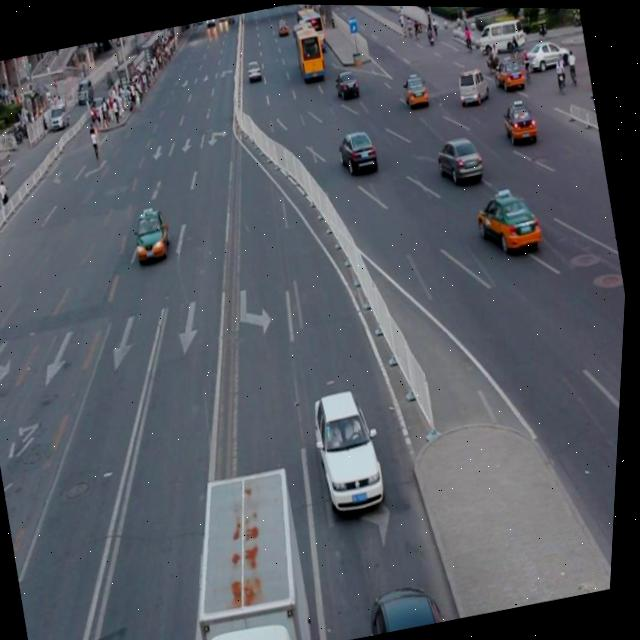bus: (171, 457, 328, 640)
car: (308, 382, 396, 516), (366, 572, 451, 636), (473, 183, 545, 255), (130, 202, 178, 266), (434, 131, 487, 187), (334, 125, 381, 173), (499, 97, 540, 146)
